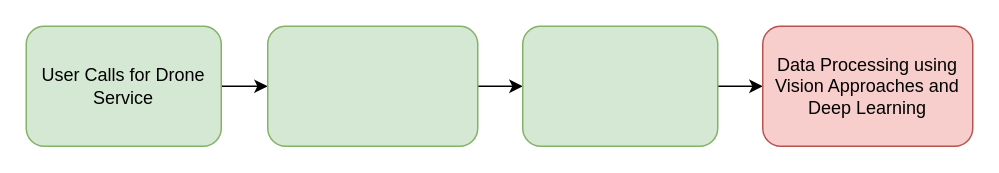
Image size: 999x173. Some labels were removed from this diagram. The box of each missing label's shape, as (x1, y1, x2, y2) in pixels:
Data Acquisition using on-board cameras on the drone: (521, 25, 718, 146)
Drone reaches the destination point and maps the area to be covered: (266, 25, 478, 146)
